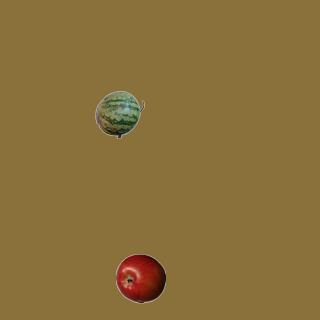Apple Braeburn: (115, 253, 165, 303)
Watermelon: (94, 89, 144, 139)
